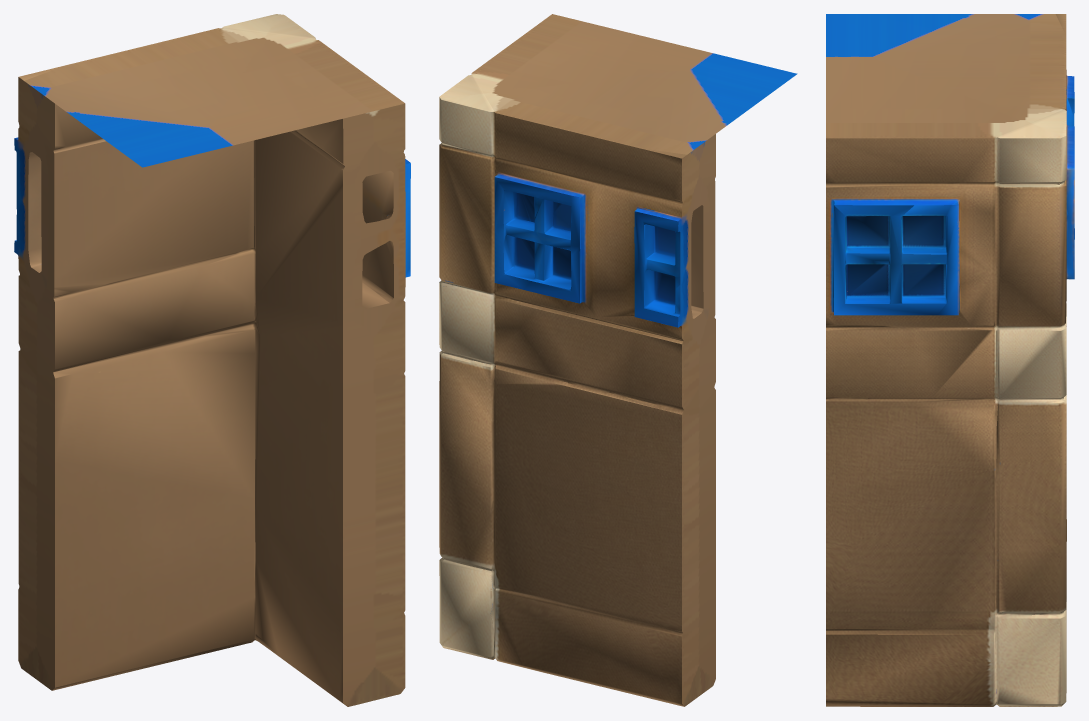
File: 4-ground-floor-back-right.fbx
3 renders of one model, left to right at view 1: azimuth 30°, elevation 25°; view 2: azimuth 150°, elevation 25°; view 3: azimuth 270°, elevation 25°, orthographic. The views are drawn at different scales.
Visible parts, largest first — view 1: ground-floor-back-right; view 2: ground-floor-back-right; view 3: ground-floor-back-right.
Part boxes in pixels (<box>): ground-floor-back-right: <box>14,14,410,706</box>; ground-floor-back-right: <box>439,14,797,706</box>; ground-floor-back-right: <box>826,14,1074,706</box>.
Bounding box in the file's own units: 5224 × 10801 × 4262.
1 material, 1 textured.
